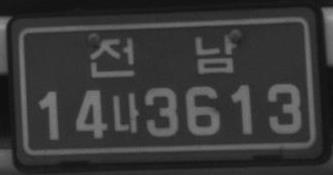1: (34, 89, 65, 141), (229, 83, 259, 136)
3: (266, 82, 303, 136), (143, 86, 180, 138)
4: (74, 88, 108, 140)
6: (183, 84, 222, 137)
나: (111, 91, 140, 135)
전남_D: (88, 33, 238, 78)
